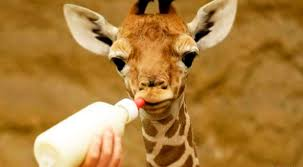Jirafa: (67, 3, 235, 120)
